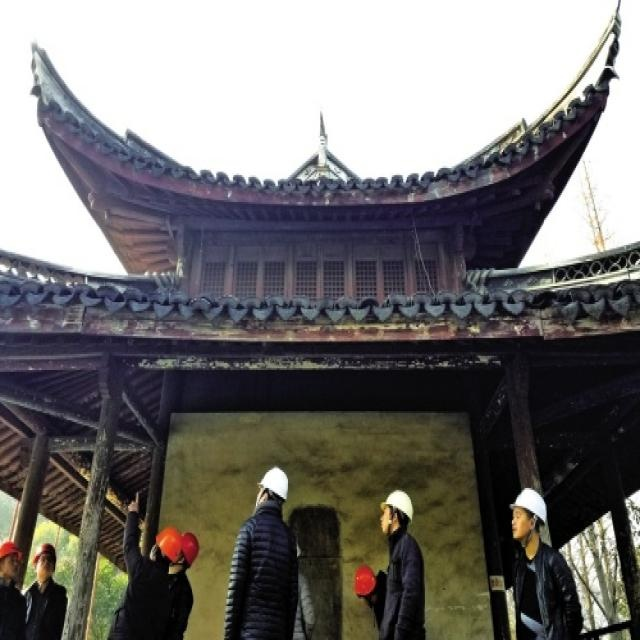Con_Casco: (509, 488, 547, 545), (380, 490, 412, 536)
